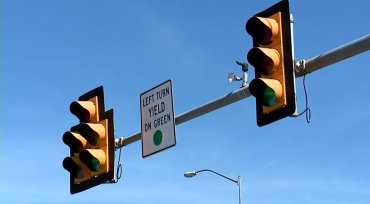traffic light: (223, 5, 316, 134), (50, 84, 133, 197)
